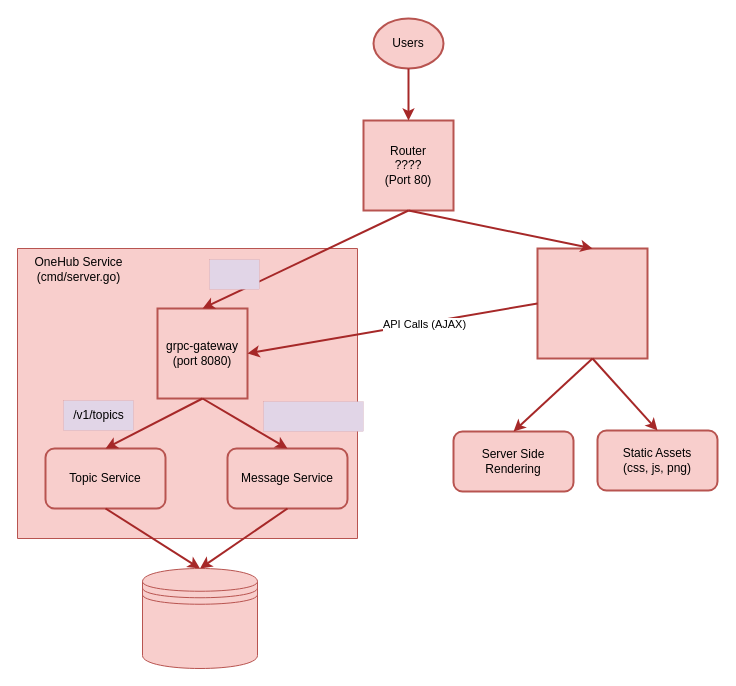
This 736x686 diagram has some shape labels left out. The box of each missing label's shape, as (x1, y1, x2, y2) in pixels:
/v1/*: (209, 259, 259, 289)
/v1/messages: (263, 401, 363, 431)
Datastore (Postgres): (142, 568, 258, 668)
FrontEnd Service (eg NextJS App) (port 4000): (536, 247, 648, 359)
